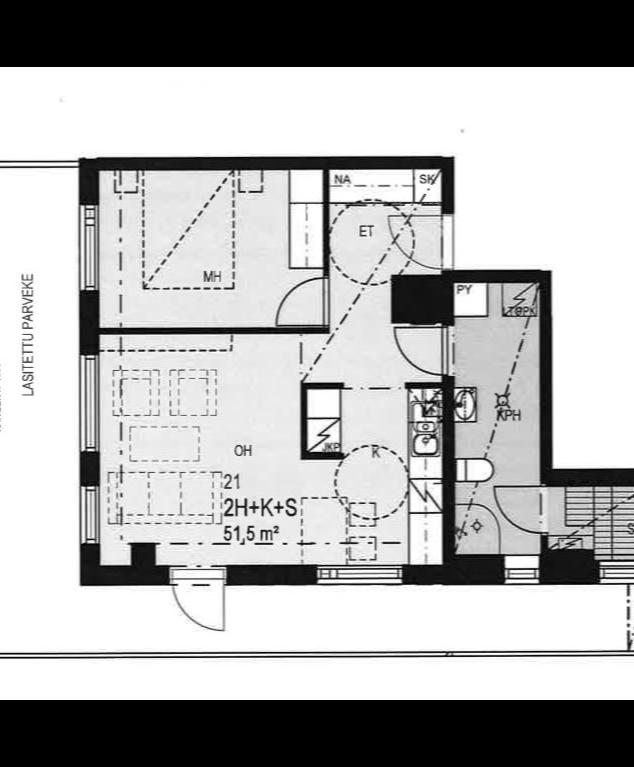bathroom: (456, 280, 542, 554)
door: (168, 562, 229, 632), (386, 208, 452, 272), (491, 480, 549, 544), (387, 325, 453, 380), (268, 274, 330, 329)
perimeter: (81, 157, 634, 587)
window: (73, 348, 103, 460), (72, 199, 101, 295), (311, 562, 406, 588), (74, 477, 99, 550), (498, 553, 542, 590), (592, 557, 634, 588)
